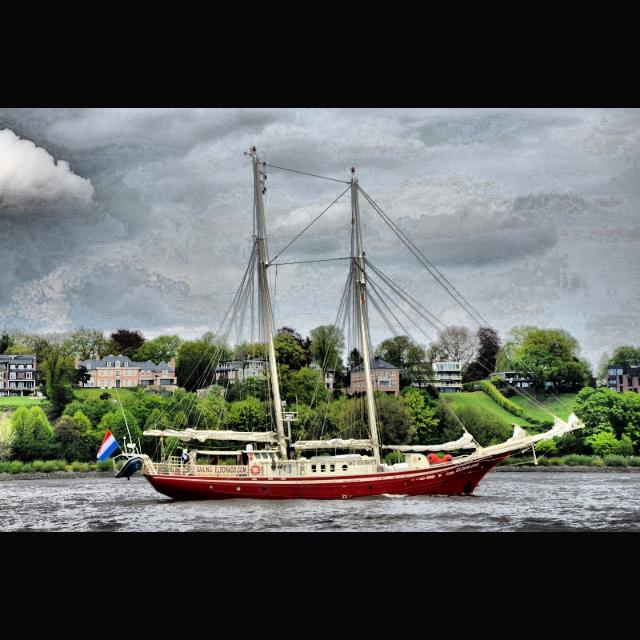sailing_vessel: (142, 145, 584, 501)
